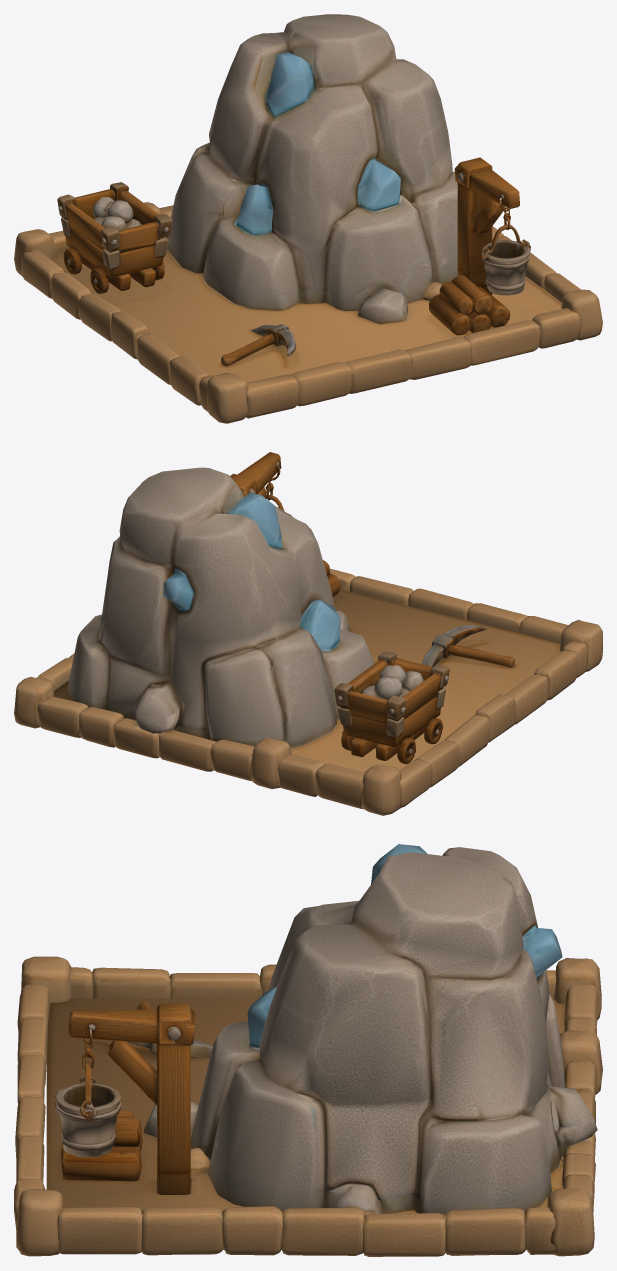
File: rock_diamond.fbx
3 views of the same model, one above another, from view 1: azimuth 30°, elevation 25°; view 2: azimuth 150°, elevation 25°; view 3: azimuth 270°, elevation 25° (orthographic). The views are drawn at different scales.
Parts seen in each view (by area): view 1: tripo_part_4, tripo_part_45, tripo_part_112, tripo_part_9, tripo_part_99, tripo_part_14, tripo_part_98, tripo_part_11; view 2: tripo_part_4, tripo_part_45, tripo_part_112, tripo_part_9, tripo_part_11, tripo_part_99; view 3: tripo_part_4, tripo_part_45, tripo_part_112, tripo_part_99, tripo_part_14, tripo_part_11.
Boxes of the visible parts, x1,y1,x2,y2 form: tripo_part_4: (166,14,457,310); tripo_part_45: (14,202,602,423); tripo_part_112: (51,236,561,382); tripo_part_9: (57,182,172,293); tripo_part_99: (454,157,530,295); tripo_part_14: (429,275,510,335); tripo_part_98: (358,288,407,324); tripo_part_11: (221,324,295,366); tripo_part_4: (67,467,374,748); tripo_part_45: (14,568,602,815); tripo_part_112: (54,589,561,772); tripo_part_9: (334,651,449,764); tripo_part_11: (422,625,515,667); tripo_part_99: (230,452,291,515); tripo_part_4: (190,844,597,1215); tripo_part_45: (14,956,602,1256); tripo_part_112: (46,998,565,1249); tripo_part_99: (55,1004,195,1194); tripo_part_14: (61,1111,142,1181); tripo_part_11: (128,1001,212,1058).
Bounding box in the file's own units: 1 × 0.5773 × 0.9843.
12 materials, 12 textured.
